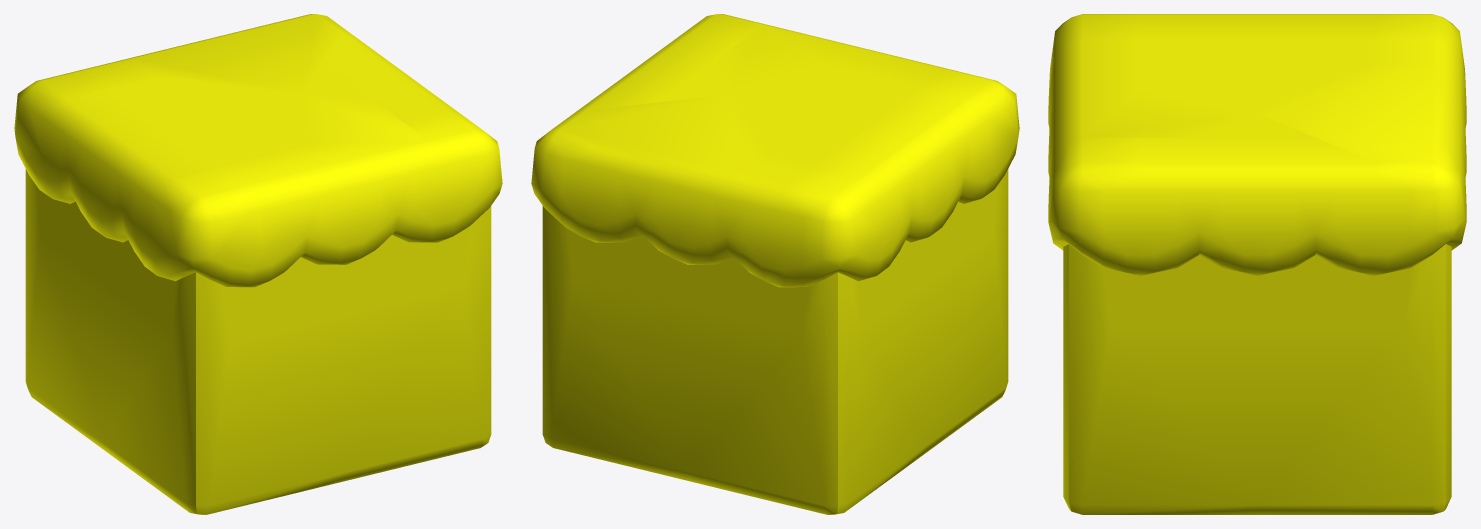
The model's file is kaykit-grass-with-snow.glb.
3 views of the same model, side by side, from view 1: azimuth 30°, elevation 25°; view 2: azimuth 150°, elevation 25°; view 3: azimuth 270°, elevation 25° (orthographic). The views are drawn at different scales.
Visible parts, largest first — view 1: grass_with_snow; view 2: grass_with_snow; view 3: grass_with_snow.
Part boxes in pixels (box(x1,y1,x2,y2)): grass_with_snow: box(14, 14, 502, 514); grass_with_snow: box(531, 14, 1019, 514); grass_with_snow: box(1048, 14, 1466, 514).
Bounding box in the file's own units: 2.16 × 2 × 2.16.
